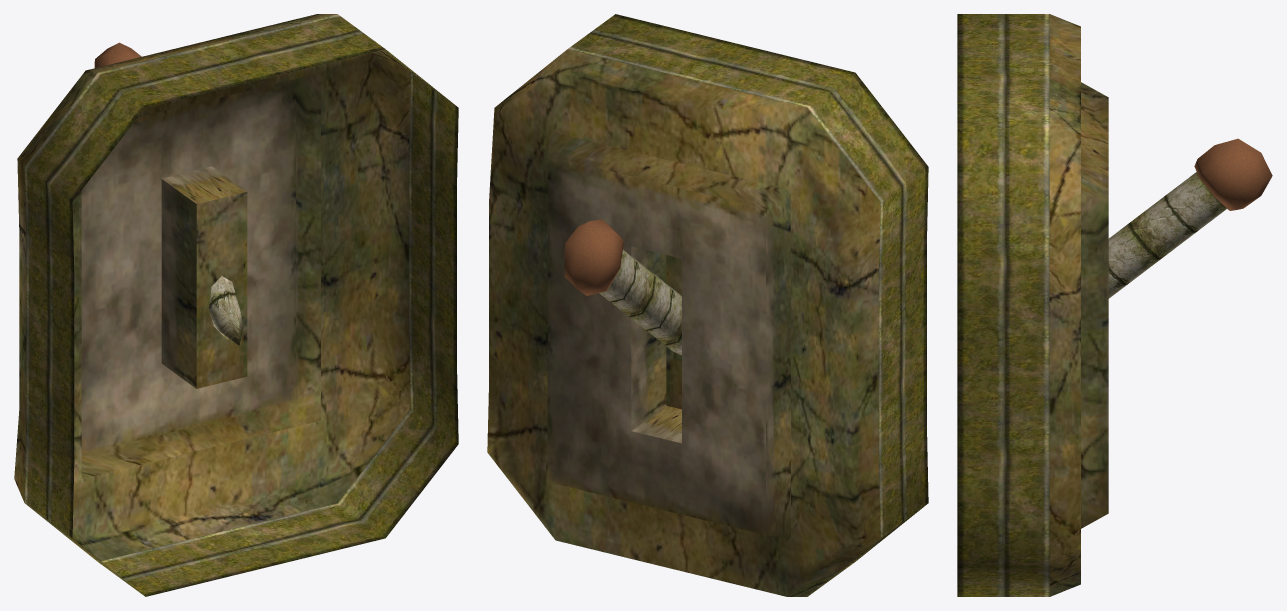
File: INST_OH_SWITCH_UP.fbx
The picture shows the model from 3 angles, left to right: view 1: azimuth 30°, elevation 25°; view 2: azimuth 150°, elevation 25°; view 3: azimuth 270°, elevation 25°; orthographic projection. The views are drawn at different scales.
Parts seen in each view (by area): view 1: INST_OH_SWITCH_UP; view 2: INST_OH_SWITCH_UP; view 3: INST_OH_SWITCH_UP.
Boxes of the visible parts, left/top/right/bottom form: INST_OH_SWITCH_UP: left=14, top=14, right=458, bottom=596; INST_OH_SWITCH_UP: left=487, top=14, right=928, bottom=596; INST_OH_SWITCH_UP: left=957, top=14, right=1272, bottom=596.
Size of the model in its own units: 5050 by 6114 by 3716.
5 materials, 5 textured.
